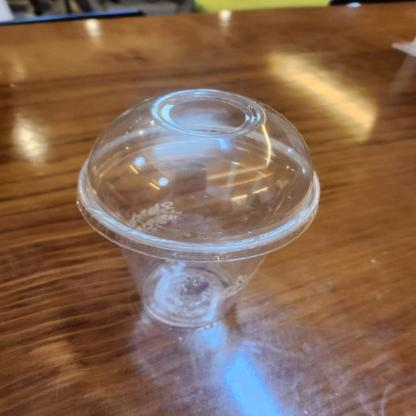Plastic Cup: (76, 90, 320, 330)
